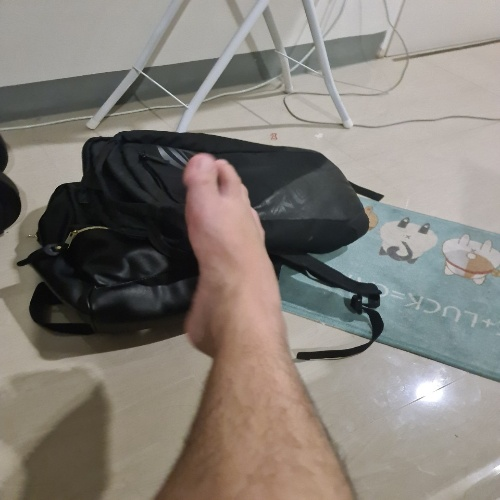3: (184, 154, 221, 202)
4: (184, 295, 219, 356)
Top_Foot: (183, 151, 278, 359)
